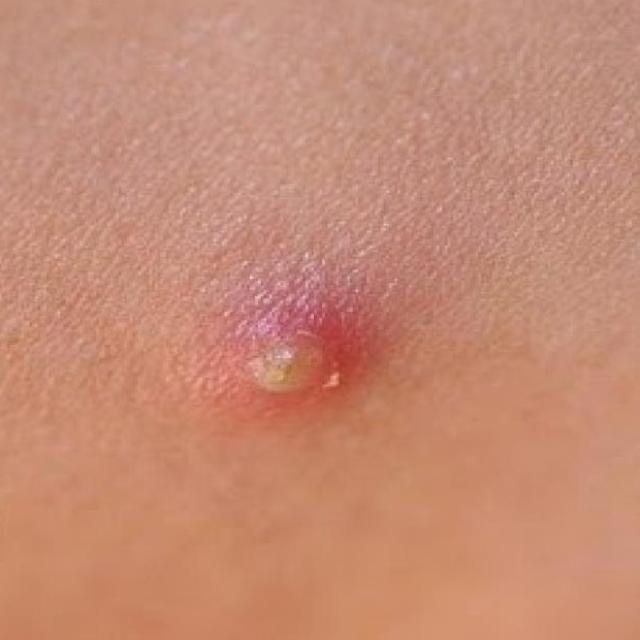pustule: (193, 306, 398, 438)
